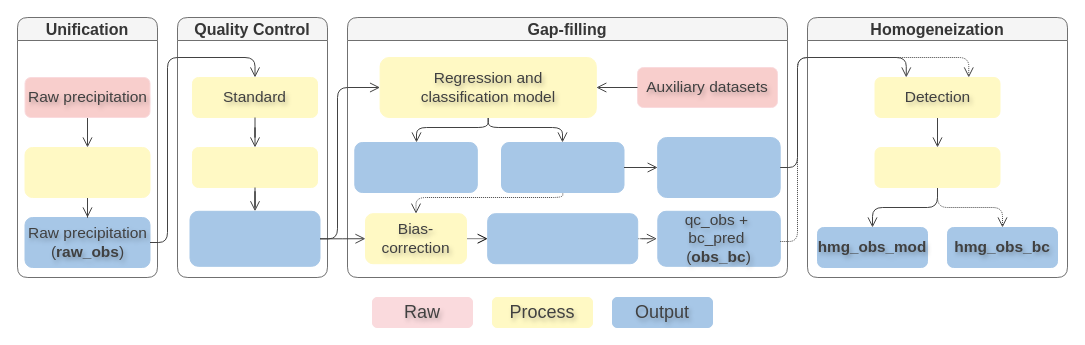
Some shapes in this 1085 by 345 pixel diagram are drawn without their labels. Each missing label, with the centre of its shape:
Bias-corrected mod_pred ( bc_pred ): (x=562, y=238)
Correction: (x=937, y=167)
Enhanced: (x=255, y=167)
Model error ( err ): (x=415, y=167)
Model prediction ( mod_pred ): (x=562, y=167)
qc_obs + mod_pred ( obs_mod ): (x=718, y=167)
Quality-controlled precipitation ( qc_obs ): (x=254, y=238)
Unification and matching: (x=87, y=172)
